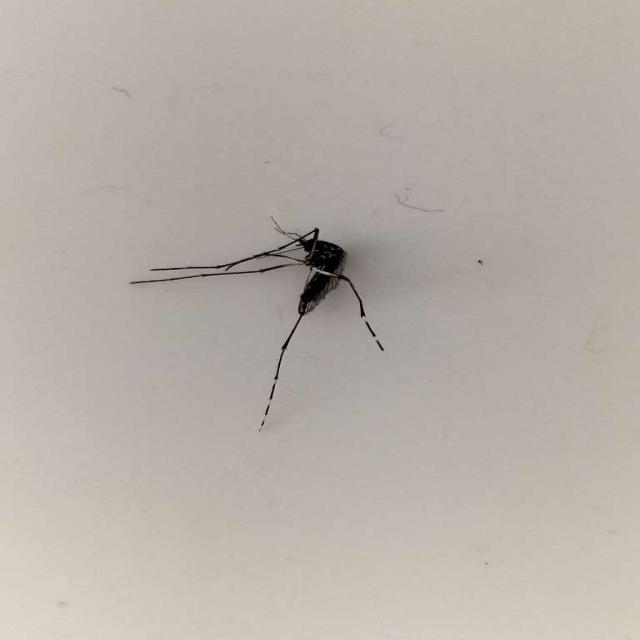albopictus: (146, 209, 392, 424)
